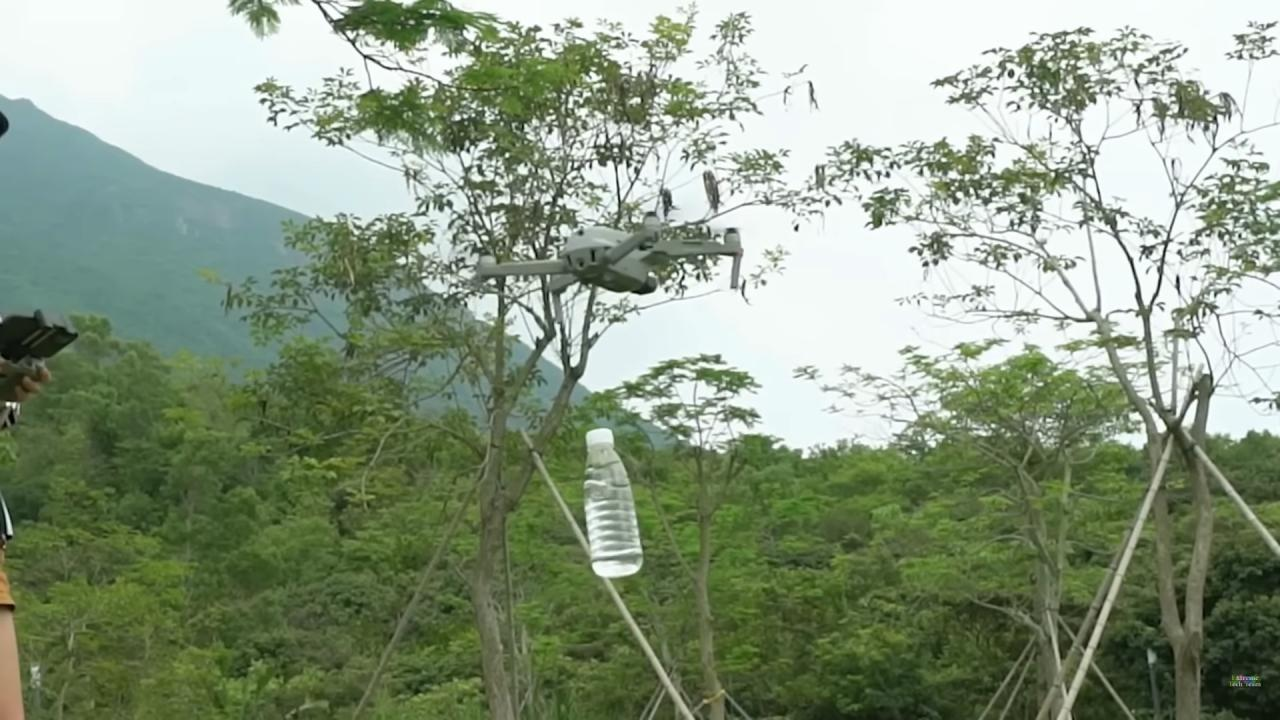Drone: (444, 197, 764, 312)
